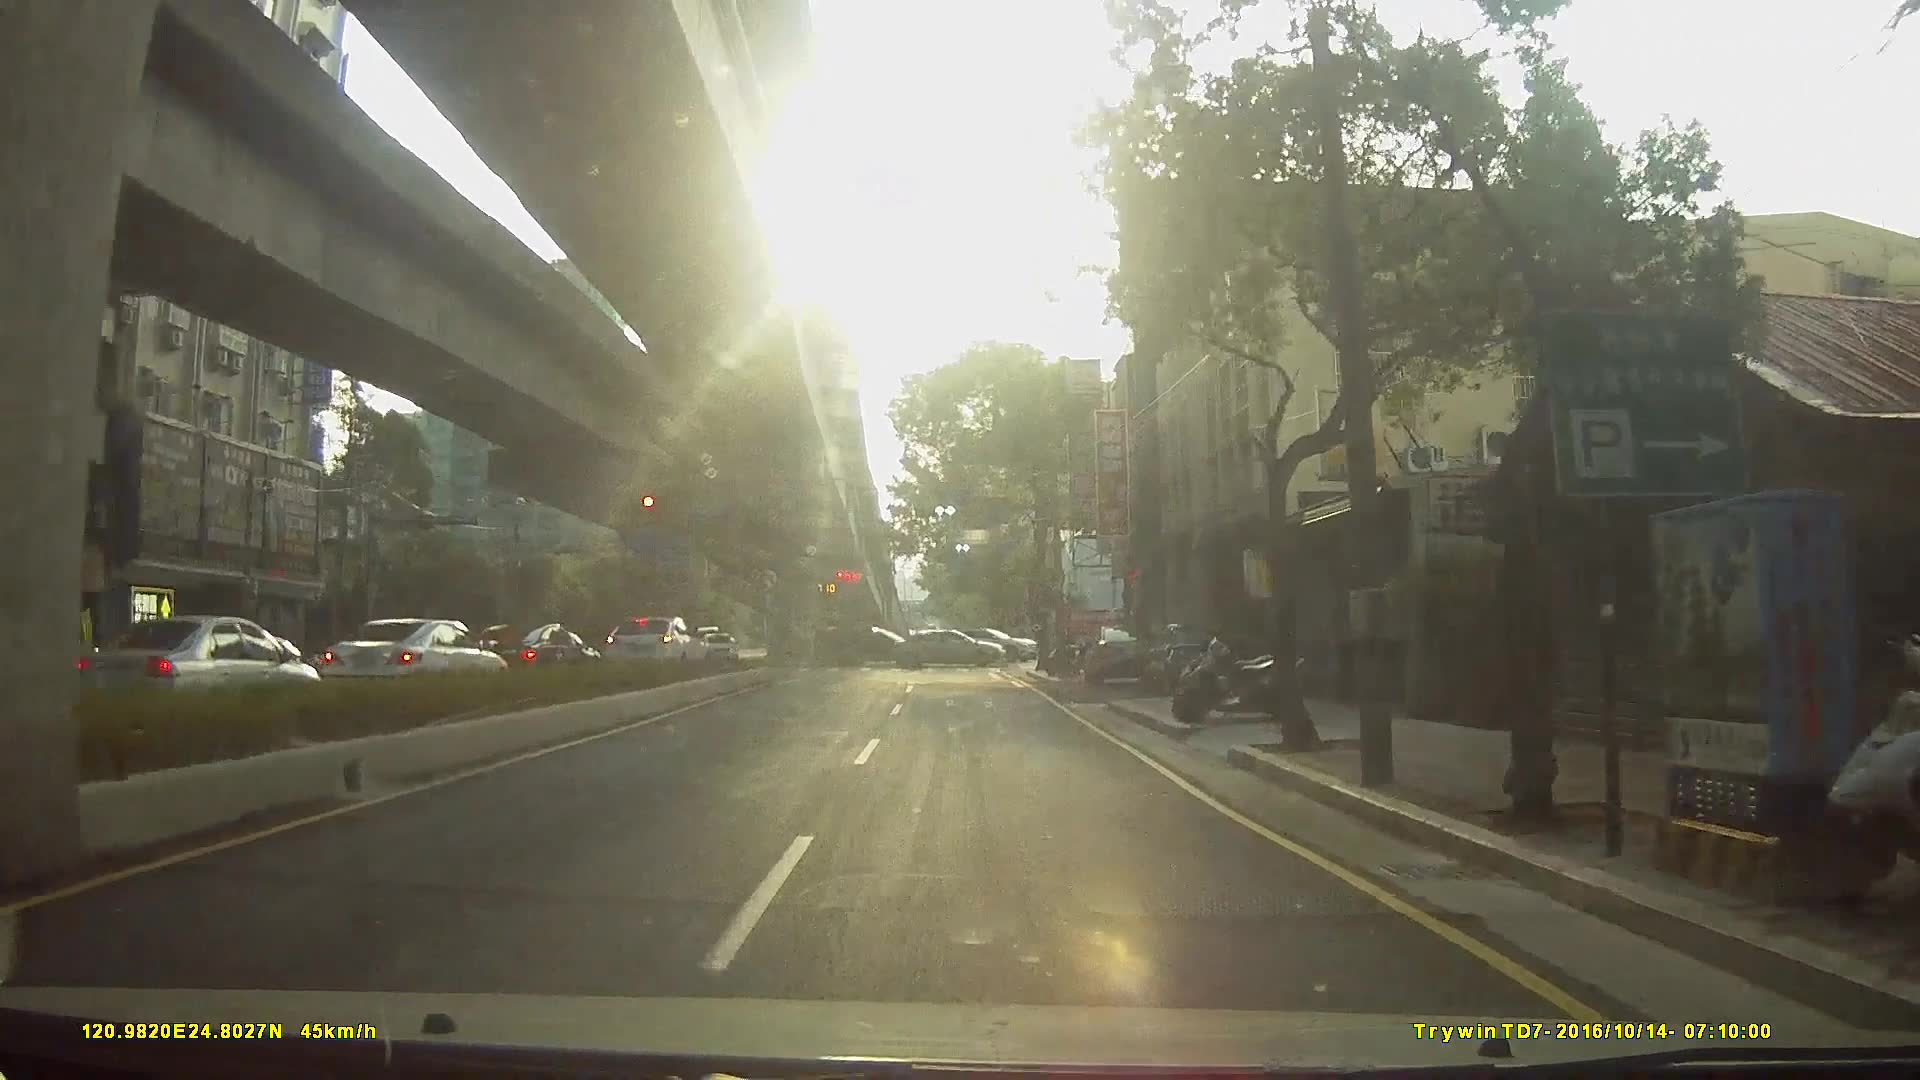vehicle: (73, 613, 324, 721), (311, 613, 506, 700), (456, 618, 597, 684), (597, 613, 709, 673), (1146, 618, 1232, 690), (1083, 618, 1163, 683), (894, 626, 1011, 667), (833, 624, 923, 667), (698, 626, 735, 662)
